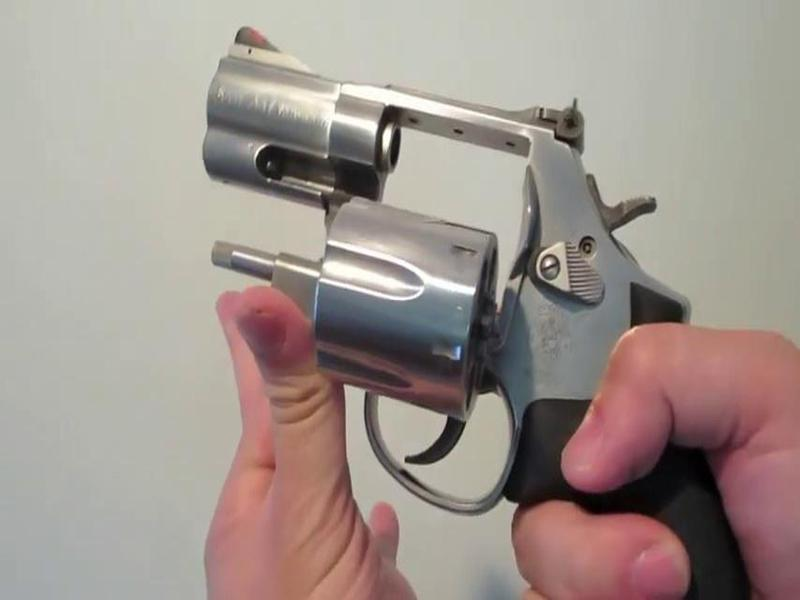Revolver: (207, 26, 767, 600)
